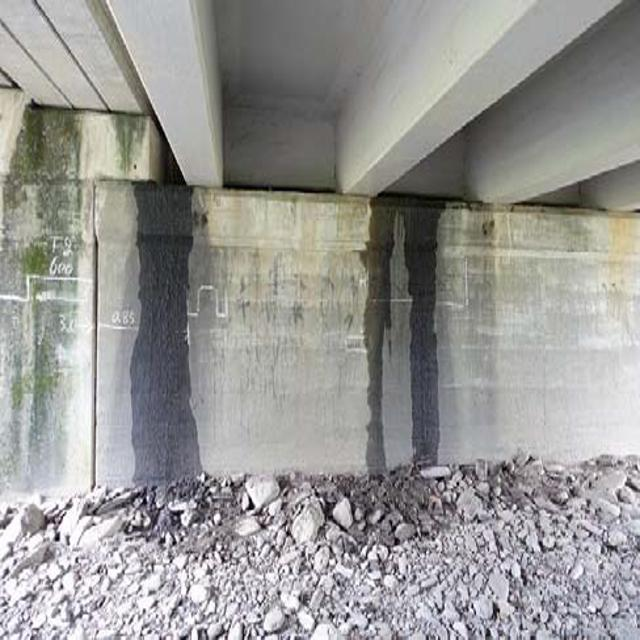leakage: (114, 169, 214, 507), (352, 188, 462, 486)
